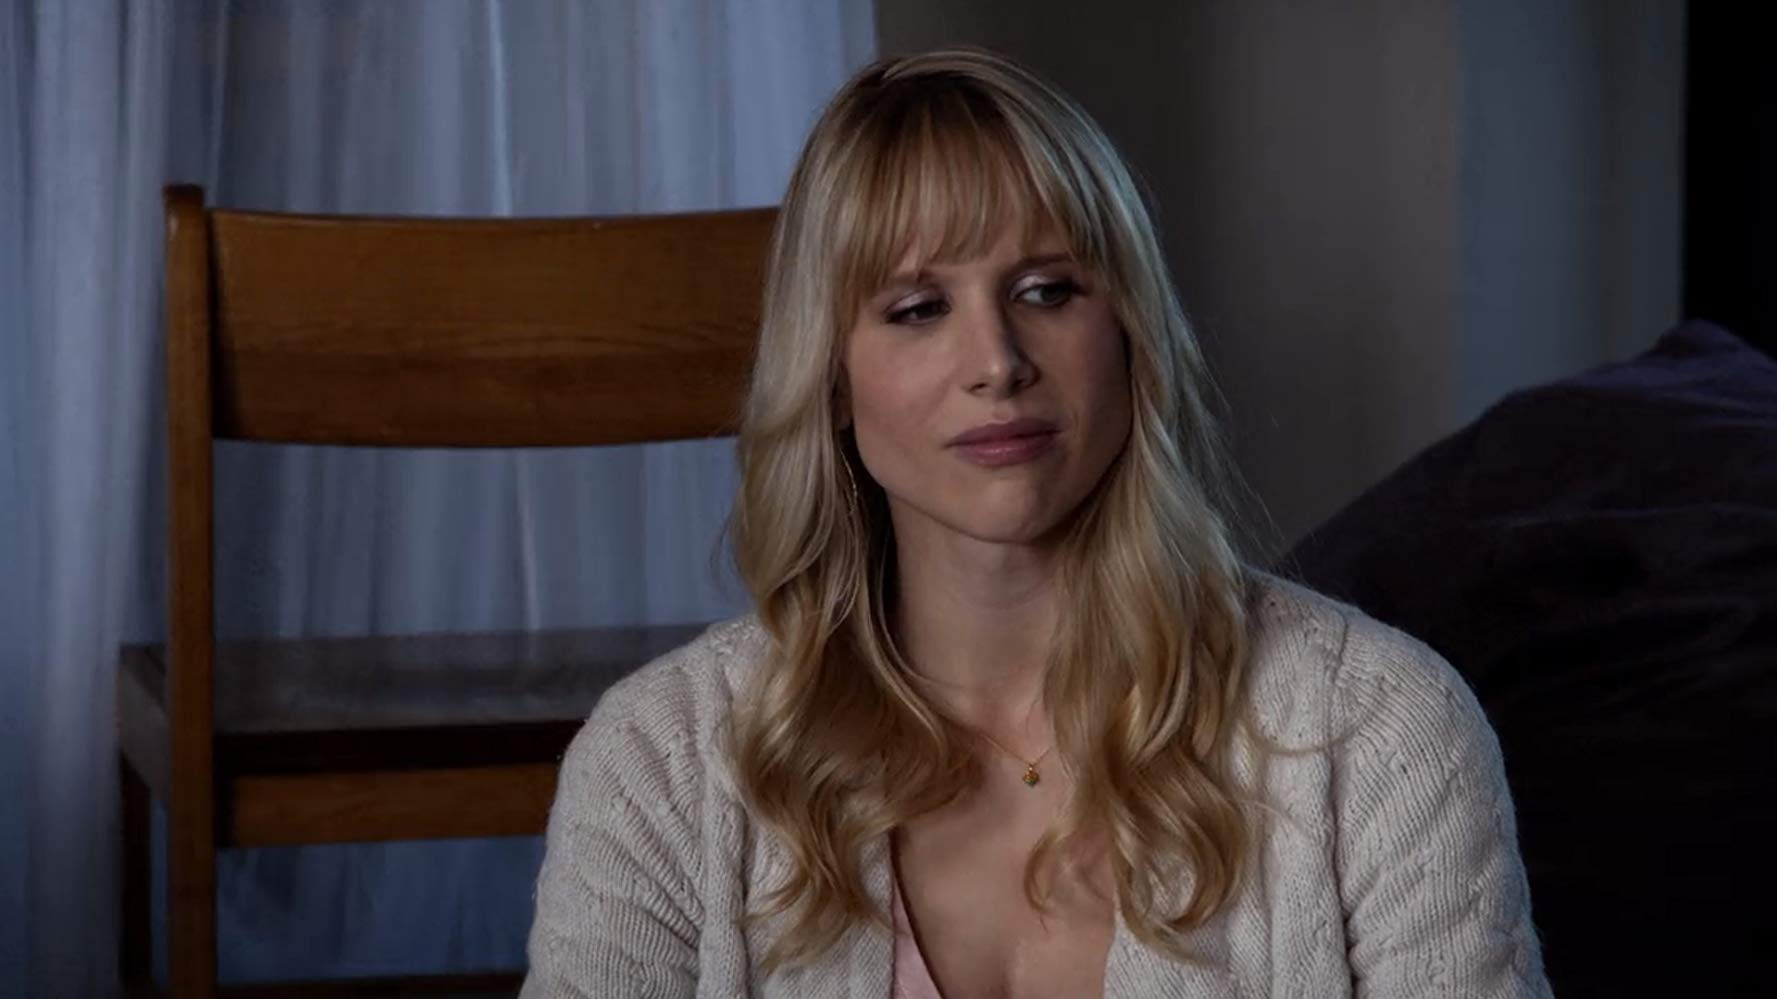person: (524, 61, 1534, 999)
